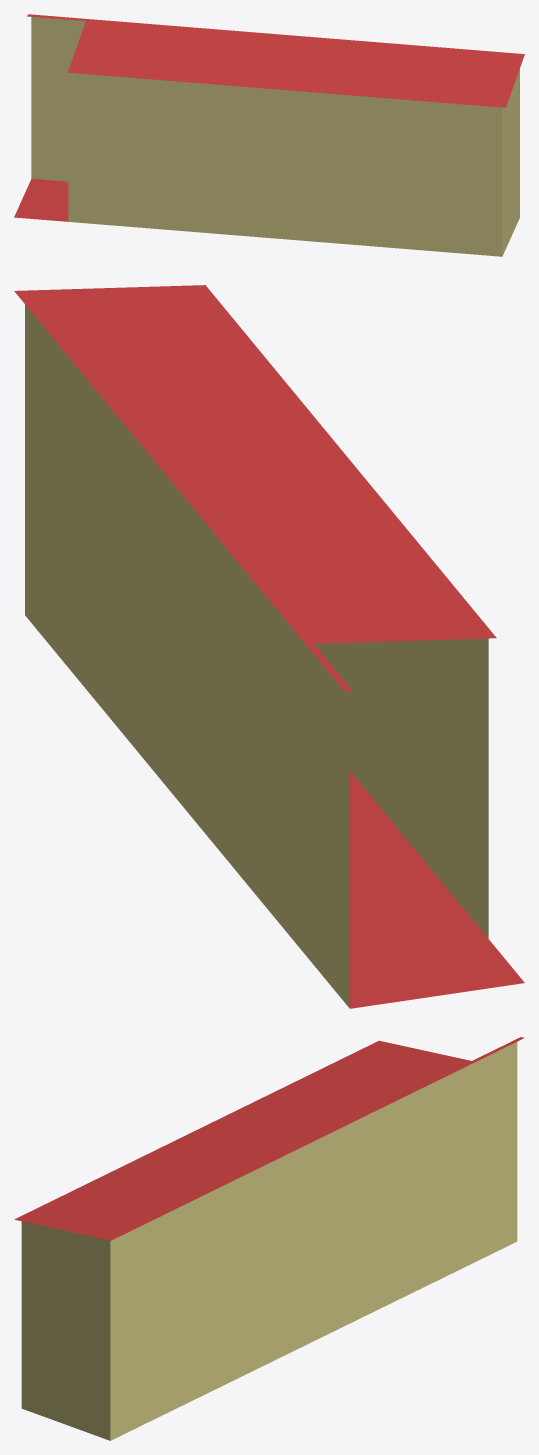
3 views of the same model, one above another, from view 1: azimuth 30°, elevation 25°; view 2: azimuth 150°, elevation 25°; view 3: azimuth 270°, elevation 25° (orthographic). The views are drawn at different scales.
Size of the model in its own units: 25.34 by 23.29 by 10.23.
